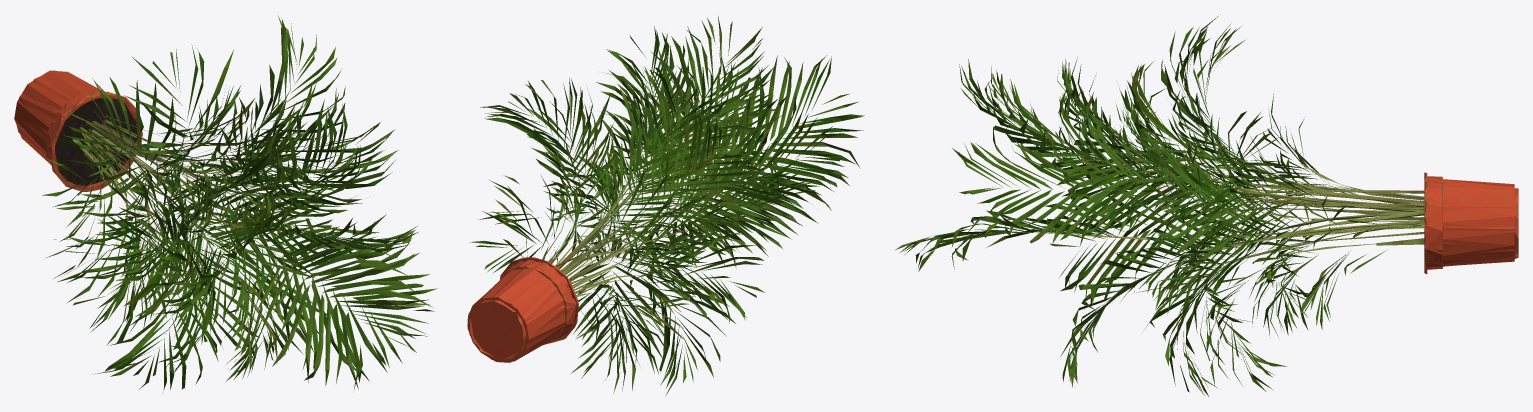
Rendered from Cây cau cảnh.glb.
3 renders of one model, left to right at view 1: azimuth 30°, elevation 25°; view 2: azimuth 150°, elevation 25°; view 3: azimuth 270°, elevation 25°, orthographic. The views are drawn at different scales.
Parts seen in each view (by area): view 1: Object_5; view 2: Object_5; view 3: Object_5.
Boxes of the visible parts, x1=… form: Object_5: x1=14, y1=16, x2=437, y2=390; Object_5: x1=467, y1=16, x2=864, y2=396; Object_5: x1=895, y1=14, x2=1518, y2=396.
Size of the model in its own units: 0.8534 by 0.8786 by 1.47.
1 material, 1 textured.
